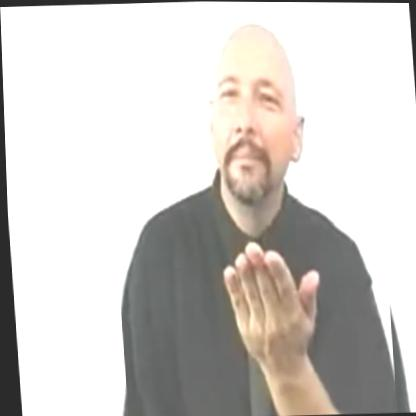ThankYou: (100, 13, 394, 416)
